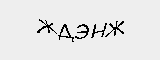Д: (56, 22, 73, 44)
Ж: (103, 19, 127, 39), (33, 18, 57, 37)
Н: (90, 19, 108, 39)
Э: (73, 22, 89, 41)
